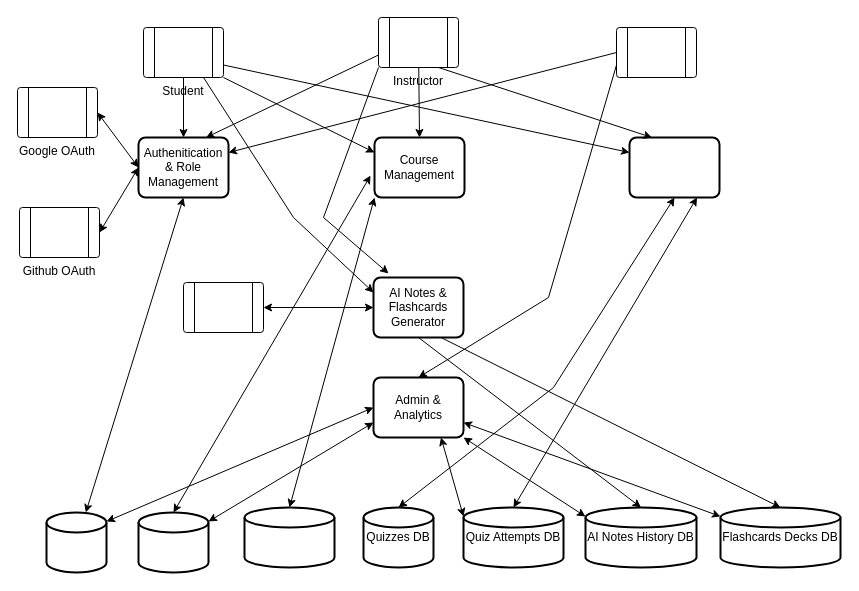
The diagram is 859 pixels wide and 591 high, and some of its shapes have lost their labels. The shapes that lost their labels are listed below. From the top down, each one's box as (x1, y1, x2, y2) in pixels, then its label:
(616, 26, 696, 78): Admin
(628, 136, 720, 198): Quiz Management
(182, 282, 264, 332): Cohere AI
(45, 511, 107, 573): Users DB
(137, 511, 209, 573): Courses DB
(243, 506, 335, 568): Enrollments DB
